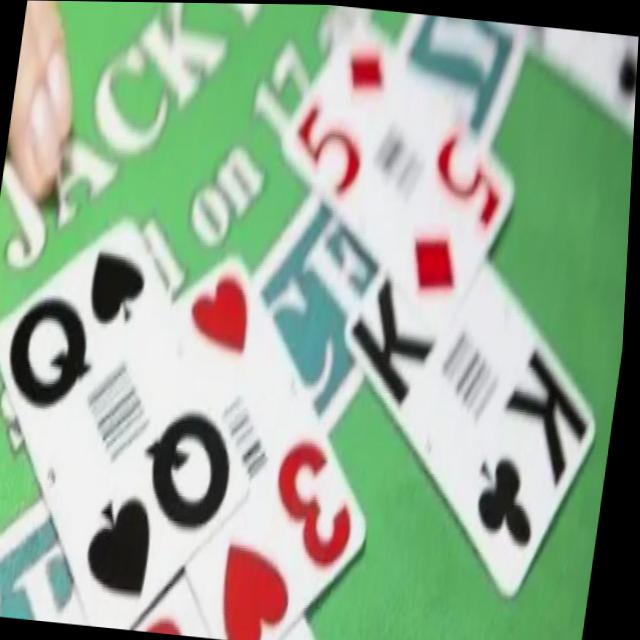Card-3: (176, 247, 371, 640)
Card-5: (285, 10, 518, 336)
Card-K: (347, 258, 601, 599)
Card-Q: (0, 213, 253, 626)
